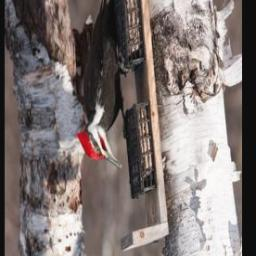Woodpecker: (74, 0, 133, 171)
